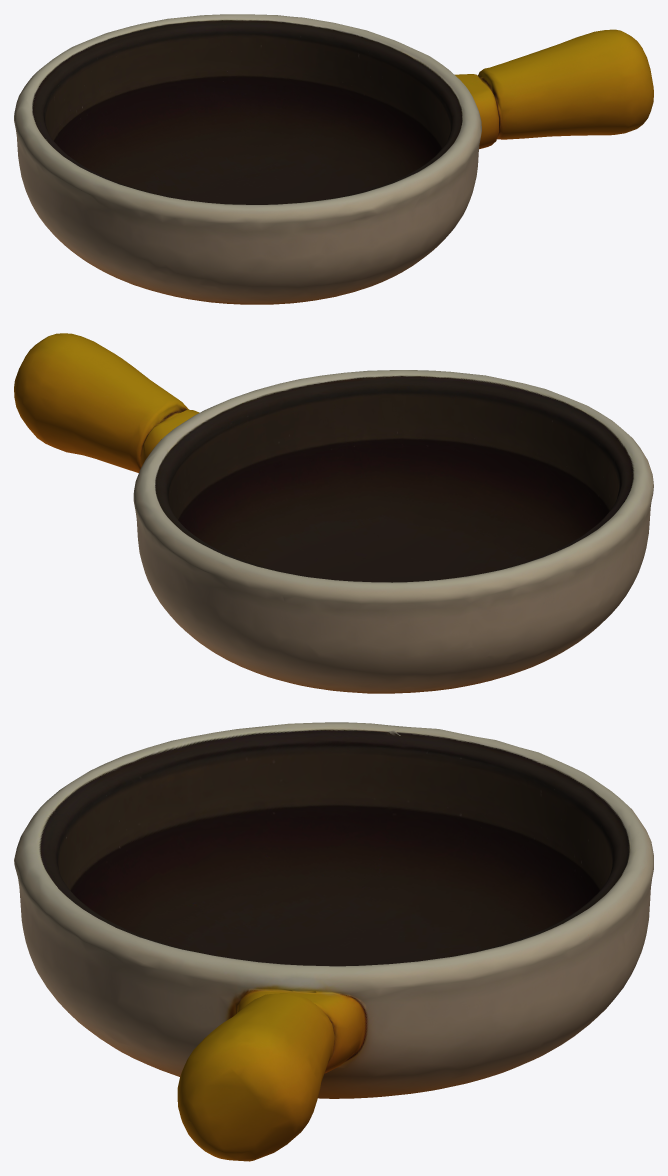
File: kitchen-frying-pan-v1.glb
3 renders of one model, top to bottom at view 1: azimuth 30°, elevation 25°; view 2: azimuth 150°, elevation 25°; view 3: azimuth 270°, elevation 25°, orthographic. The views are drawn at different scales.
Visible parts, largest first — view 1: tripo_node_b50a0066-10b2-41b5-a36a-3883be1892c6; view 2: tripo_node_b50a0066-10b2-41b5-a36a-3883be1892c6; view 3: tripo_node_b50a0066-10b2-41b5-a36a-3883be1892c6.
Boxes of the visible parts, x1,y1,x2,y2 form: tripo_node_b50a0066-10b2-41b5-a36a-3883be1892c6: [14, 14, 653, 304]; tripo_node_b50a0066-10b2-41b5-a36a-3883be1892c6: [14, 333, 653, 693]; tripo_node_b50a0066-10b2-41b5-a36a-3883be1892c6: [14, 722, 653, 1161].
Bounding box in the file's own units: 1 × 0.2596 × 0.7476.
Materials: 1 (1 with a texture image).
